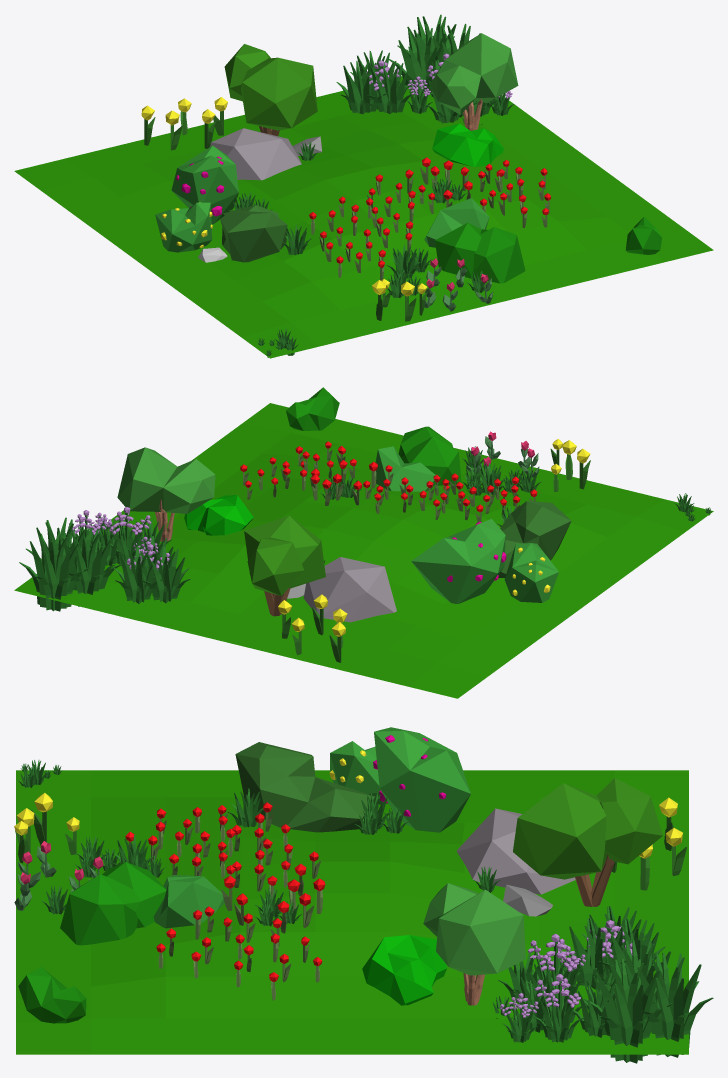
File: MEADOW_FIELD08.fbx
3 views of the same model, one above another, from view 1: azimuth 30°, elevation 25°; view 2: azimuth 150°, elevation 25°; view 3: azimuth 270°, elevation 25° (orthographic). The views are drawn at different scales.
Visible parts, largest first — view 1: Grid.029, Icosphere.060, Icosphere.059, Icosphere.064, Plane.220, Icosphere.063, Icosphere.066, Cylinder.316, Cylinder.307, Plane.212, Icosphere.067, Plane.219 (+3 smaller); view 2: Grid.029, Icosphere.059, Plane.220, Cylinder.307, Icosphere.060, Icosphere.066, Cylinder.316, Icosphere.063, Plane.212, Icosphere.064, Icosphere.067, Plane.219 (+4 smaller); view 3: Grid.029, Icosphere.060, Cylinder.307, Icosphere.063, Icosphere.059, Plane.220, Icosphere.064, Icosphere.067, Icosphere.066, Cylinder.316, Plane.219, Plane.218 (+14 smaller).
Boxes of the visible parts, left/top/right/bottom form: Grid.029: left=14, top=76, right=713, bottom=358; Icosphere.060: left=224, top=44, right=317, bottom=130; Icosphere.059: left=430, top=33, right=518, bottom=130; Icosphere.064: left=435, top=222, right=525, bottom=283; Plane.220: left=171, top=145, right=238, bottom=224; Icosphere.063: left=220, top=205, right=287, bottom=262; Icosphere.066: left=210, top=128, right=301, bottom=180; Cylinder.316: left=336, top=50, right=413, bottom=114; Cylinder.307: left=389, top=14, right=480, bottom=92; Plane.212: left=155, top=202, right=212, bottom=252; Icosphere.067: left=432, top=123, right=503, bottom=166; Plane.219: left=424, top=198, right=489, bottom=247; Grid.029: left=14, top=403, right=713, bottom=698; Icosphere.059: left=117, top=447, right=215, bottom=541; Plane.220: left=411, top=518, right=506, bottom=603; Cylinder.307: left=19, top=517, right=121, bottom=611; Icosphere.060: left=244, top=515, right=325, bottom=595; Icosphere.066: left=303, top=557, right=396, bottom=622; Cylinder.316: left=113, top=536, right=190, bottom=603; Icosphere.063: left=498, top=501, right=571, bottom=577; Plane.212: left=504, top=543, right=558, bottom=602; Icosphere.064: left=398, top=426, right=461, bottom=485; Icosphere.067: left=184, top=495, right=253, bottom=535; Plane.219: left=375, top=446, right=435, bottom=491; Grid.029: left=16, top=770, right=688, bottom=1054; Icosphere.060: left=513, top=778, right=662, bottom=879; Cylinder.307: left=584, top=939, right=713, bottom=1063; Icosphere.063: left=235, top=742, right=374, bottom=832; Icosphere.059: left=423, top=883, right=525, bottom=1005; Plane.220: left=373, top=727, right=470, bottom=832; Icosphere.064: left=60, top=862, right=166, bottom=945; Icosphere.067: left=362, top=935, right=446, bottom=1005; Icosphere.066: left=457, top=808, right=575, bottom=894; Cylinder.316: left=565, top=906, right=665, bottom=989; Plane.219: left=153, top=875, right=224, bottom=928; Plane.218: left=18, top=967, right=86, bottom=1023.
Size of the model in its own units: 1014 by 259 by 1040.
